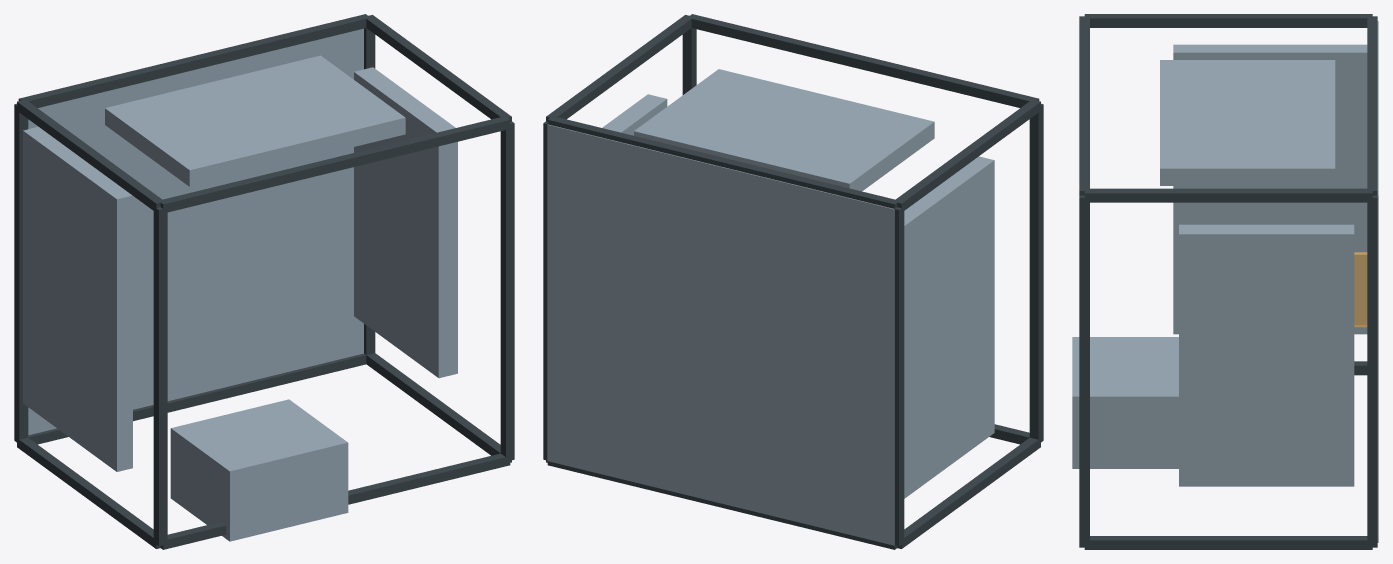
3 renders of one model, left to right at view 1: azimuth 30°, elevation 25°; view 2: azimuth 150°, elevation 25°; view 3: azimuth 270°, elevation 25°, orthographic. The views are drawn at different scales.
Visible parts, largest first — view 1: cad o11 side glass envelope, cad o11 motherboard tray from step, cad o11 front panel plane, cad o11 top radiator guide, cad o11 psu bay from step, cad o11 depth rail 1.005:0.755, cad o11 corner post -1.085:0.755, cad o11 depth rail 1.005:-0.755, cad o11 corner post 1.085:0.755, cad o11 corner post -1.085:-0.755, cad o11 depth rail -1.005:0.755, cad o11 depth rail -1.005:-0.755 (+5 smaller); view 2: cad o11 side glass envelope, cad o11 motherboard tray from step, cad o11 top radiator guide, cad o11 depth rail 1.005:0.755, cad o11 corner post -1.085:0.755, cad o11 corner post -1.085:-0.755, cad o11 depth rail 1.005:-0.755, cad o11 width rail -1.085:1.005, cad o11 width rail -1.085:-1.005, cad o11 width rail 1.085:1.005, cad o11 corner post 1.085:-0.755, cad o11 depth rail -1.005:-0.755 (+2 smaller); view 3: cad o11 front panel plane, cad o11 top radiator guide, cad o11 motherboard tray from step, cad o11 psu bay from step, cad o11 width rail 1.085:1.005, cad o11 width rail 1.085:-1.005, cad o11 width rail -1.085:1.005, cad o11 corner post 1.085:0.755, cad o11 corner post 1.085:-0.755, cad o11 depth rail 1.005:-0.755, cad o11 depth rail 1.005:0.755, cad o11 expansion slot guide (+1 smaller).
Part boxes in pixels (x1,y1,x2,y2): cad o11 side glass envelope: (28,28,363,435); cad o11 motherboard tray from step: (23,126,132,471); cad o11 front panel plane: (354,67,457,378); cad o11 top radiator guide: (105,55,405,186); cad o11 psu bay from step: (170,399,348,541); cad o11 depth rail 1.005:0.755: (159,116,510,212); cad o11 corner post -1.085:0.755: (153,206,167,546); cad o11 depth rail 1.005:-0.755: (18,14,369,107); cad o11 corner post 1.085:0.755: (500,121,514,461); cad o11 corner post -1.085:-0.755: (14,103,28,443); cad o11 depth rail -1.005:0.755: (160,453,510,549); cad o11 depth rail -1.005:-0.755: (28,353,366,444); cad o11 side glass envelope: (547,124,894,545); cad o11 motherboard tray from step: (904,156,994,498); cad o11 top radiator guide: (634,69,934,191); cad o11 depth rail 1.005:0.755: (687,14,1039,107); cad o11 corner post -1.085:0.755: (1029,103,1043,443); cad o11 corner post -1.085:-0.755: (894,206,904,546); cad o11 depth rail 1.005:-0.755: (547,116,898,208); cad o11 width rail -1.085:1.005: (893,100,1040,211); cad o11 width rail -1.085:-1.005: (897,438,1040,548); cad o11 width rail 1.085:1.005: (546,15,692,121); cad o11 corner post 1.085:-0.755: (543,121,547,460); cad o11 depth rail -1.005:-0.755: (547,461,897,549); cad o11 front panel plane: (1179,224,1354,486); cad o11 top radiator guide: (1160,60,1335,185); cad o11 motherboard tray from step: (1173,44,1367,334); cad o11 psu bay from step: (1072,337,1178,468); cad o11 width rail 1.085:1.005: (1084,188,1372,202); cad o11 width rail 1.085:-1.005: (1084,536,1372,549); cad o11 width rail -1.085:1.005: (1084,14,1372,27); cad o11 corner post 1.085:0.755: (1079,195,1089,545); cad o11 corner post 1.085:-0.755: (1367,195,1377,545); cad o11 depth rail 1.005:-0.755: (1367,16,1377,195); cad o11 depth rail 1.005:0.755: (1079,16,1089,195); cad o11 expansion slot guide: (1354,252,1367,327).
Size of the model in its own units: 2.23 by 2.09 by 1.61.
